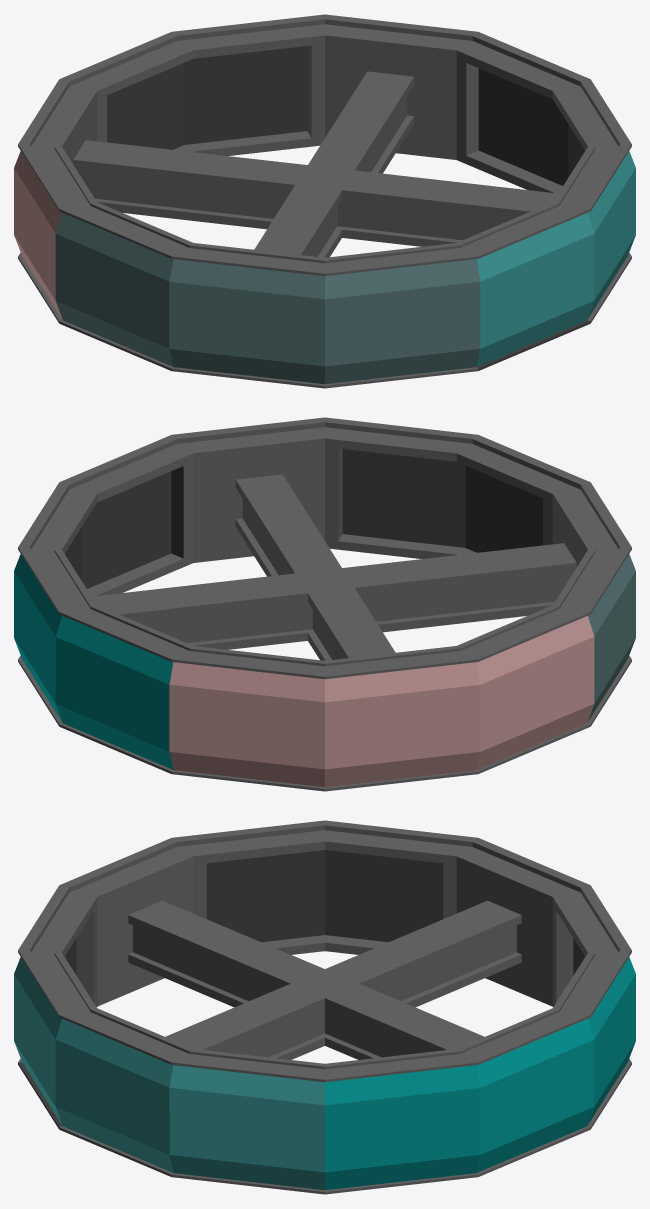
Rendered from Signboard_05_B_3840x1080.FBX.
The picture shows the model from 3 angles, top to bottom: view 1: azimuth 30°, elevation 25°; view 2: azimuth 150°, elevation 25°; view 3: azimuth 270°, elevation 25°; orthographic projection.
Parts seen in each view (by area): view 1: Signboard_05_B_3840x1080_LOD0; view 2: Signboard_05_B_3840x1080_LOD0; view 3: Signboard_05_B_3840x1080_LOD0.
Part boxes in pixels (left/top/right/bottom): Signboard_05_B_3840x1080_LOD0: left=14, top=14, right=635, bottom=388; Signboard_05_B_3840x1080_LOD0: left=14, top=417, right=635, bottom=791; Signboard_05_B_3840x1080_LOD0: left=14, top=820, right=635, bottom=1194.
Size of what is drawn, in the model's own units: 730 by 149 by 730.
